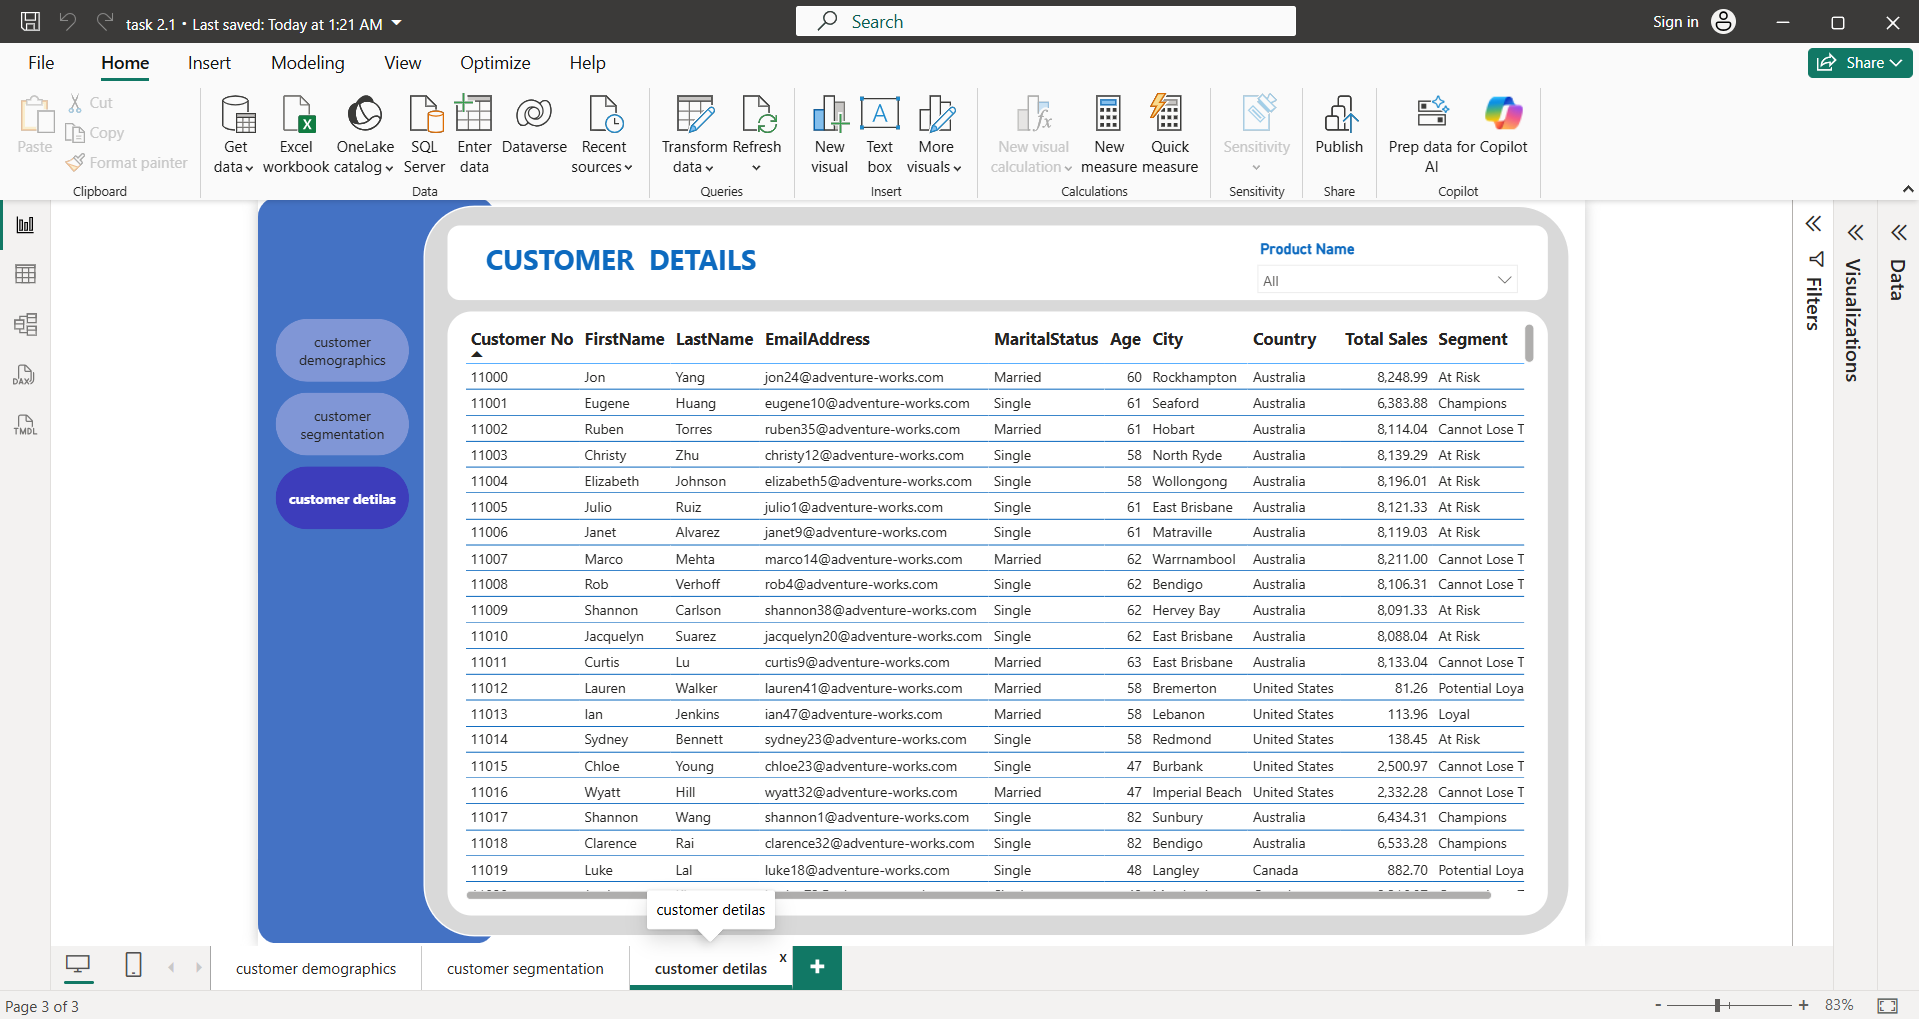

The page's visual inventory and layout, read from the dashboard file:
{"tool":"powerbi","page":{"name":"customer detilas ","canvas":[1280,720],"ordinal":2},"visuals":[{"type":"textbox","box":[214.7,33.8,424.7,63.9],"z":0},{"type":"tableEx","fields":{"Values":["DimCustomer.CustomerKey","DimCustomer.FirstName","DimCustomer.LastName","DimCustomer.EmailAddress","DimCustomer.MaritalStatus","Sum(DimCustomer.Age)","DimGeography.City","DimGeography.Country","Sum(FactInternetSales.SalesAmount)","Segment Table.Segment"]},"box":[194.2,114.6,1042.4,565.8],"z":1000},{"type":"slicer","fields":{"Values":["DimProduct.Product Name"]},"box":[954.3,33.8,271.4,60.3],"z":2000},{"type":"pageNavigator","box":[16.9,114.6,129.1,203.9],"z":3000}]}

Visuals, with their boxes on the page's 1280x720 design canvas (x1, y1, x2, y2). These are canvas units, not pixel positions in the 1919x1019 screenshot, which may show the page scaled, cropped or inside an application window:
textbox: crop(215, 34, 639, 98)
tableEx - DimCustomer.CustomerKey x DimCustomer.FirstName: crop(194, 115, 1237, 680)
slicer - DimProduct.Product Name: crop(954, 34, 1226, 94)
pageNavigator: crop(17, 115, 146, 318)
